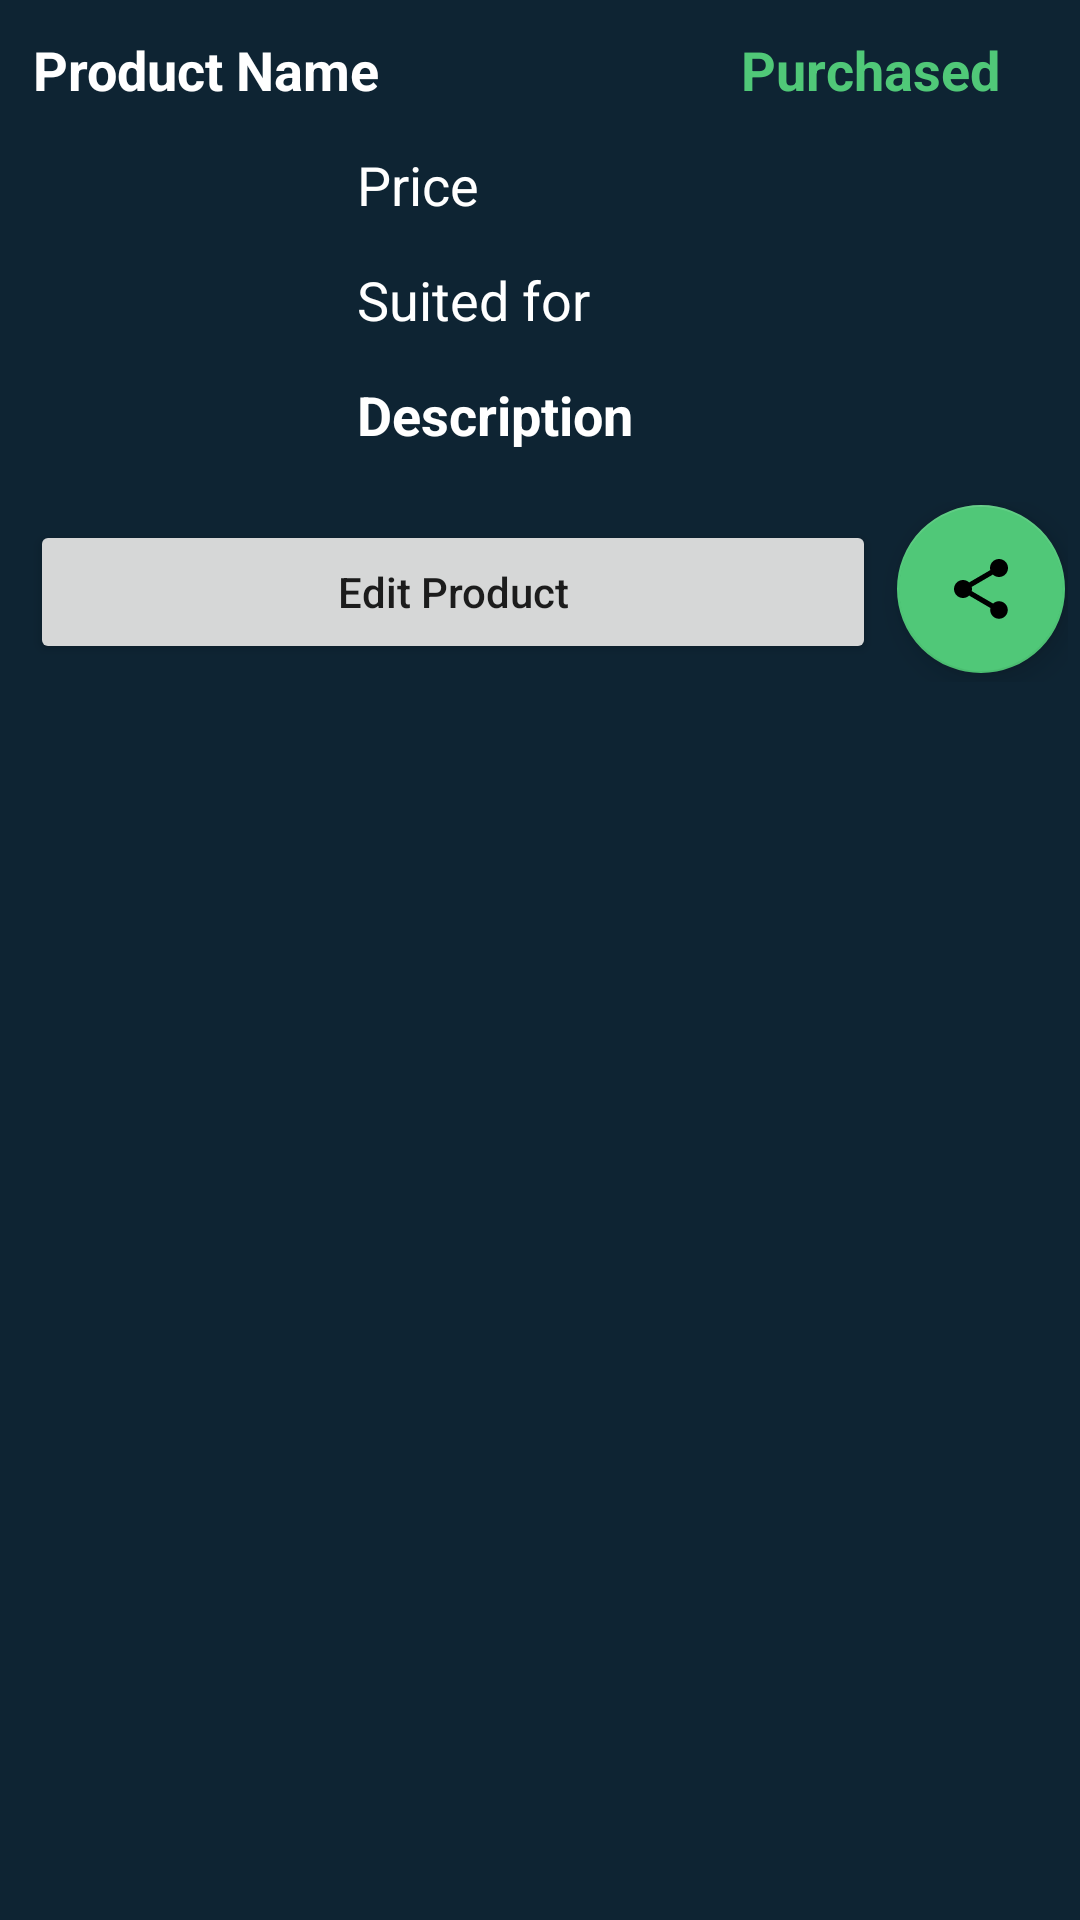

Named icons in this screenshot (1080 x 1920) and their centers, point (x, y):
share: point (981, 589)
